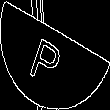P_NE: (35, 24, 75, 86)
